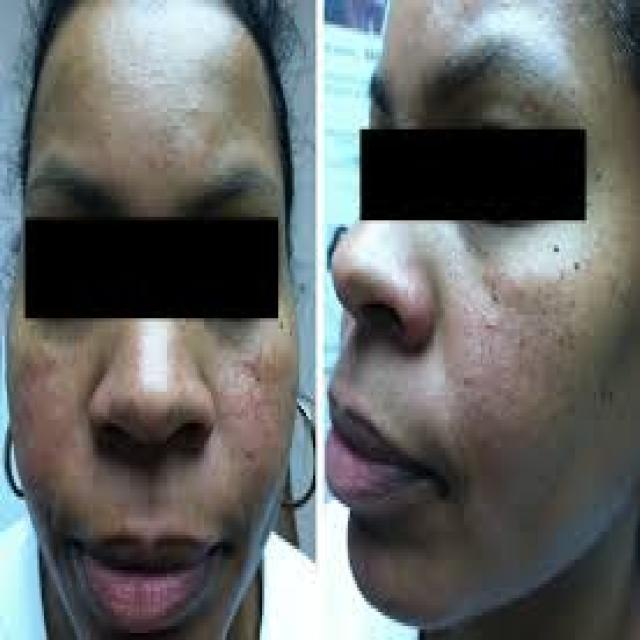Rosacea: (443, 272, 565, 477), (3, 348, 78, 503), (215, 346, 281, 490)
